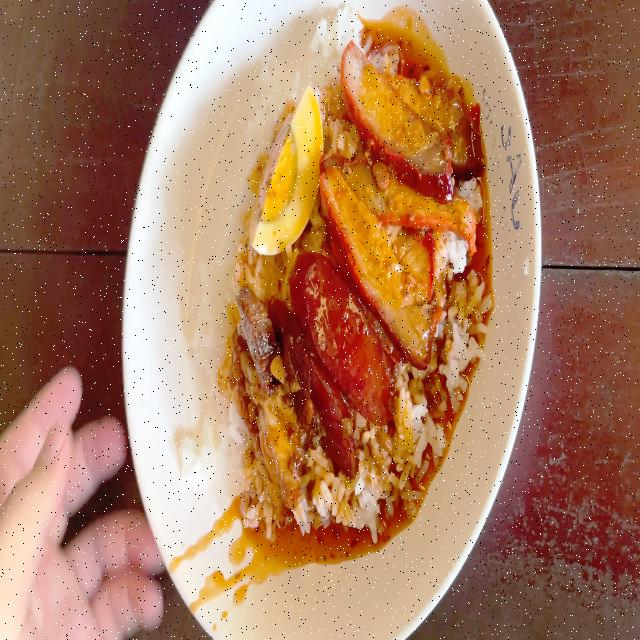boiled_egg: (252, 93, 321, 249)
chainese_sausage: (283, 256, 393, 464)
crispy_pork: (238, 294, 293, 495)
red_pork: (327, 54, 471, 315), (189, 270, 241, 452), (284, 474, 386, 541), (402, 375, 443, 480), (302, 18, 364, 55)
red_pork_and_crispy_pork: (230, 21, 476, 526)
